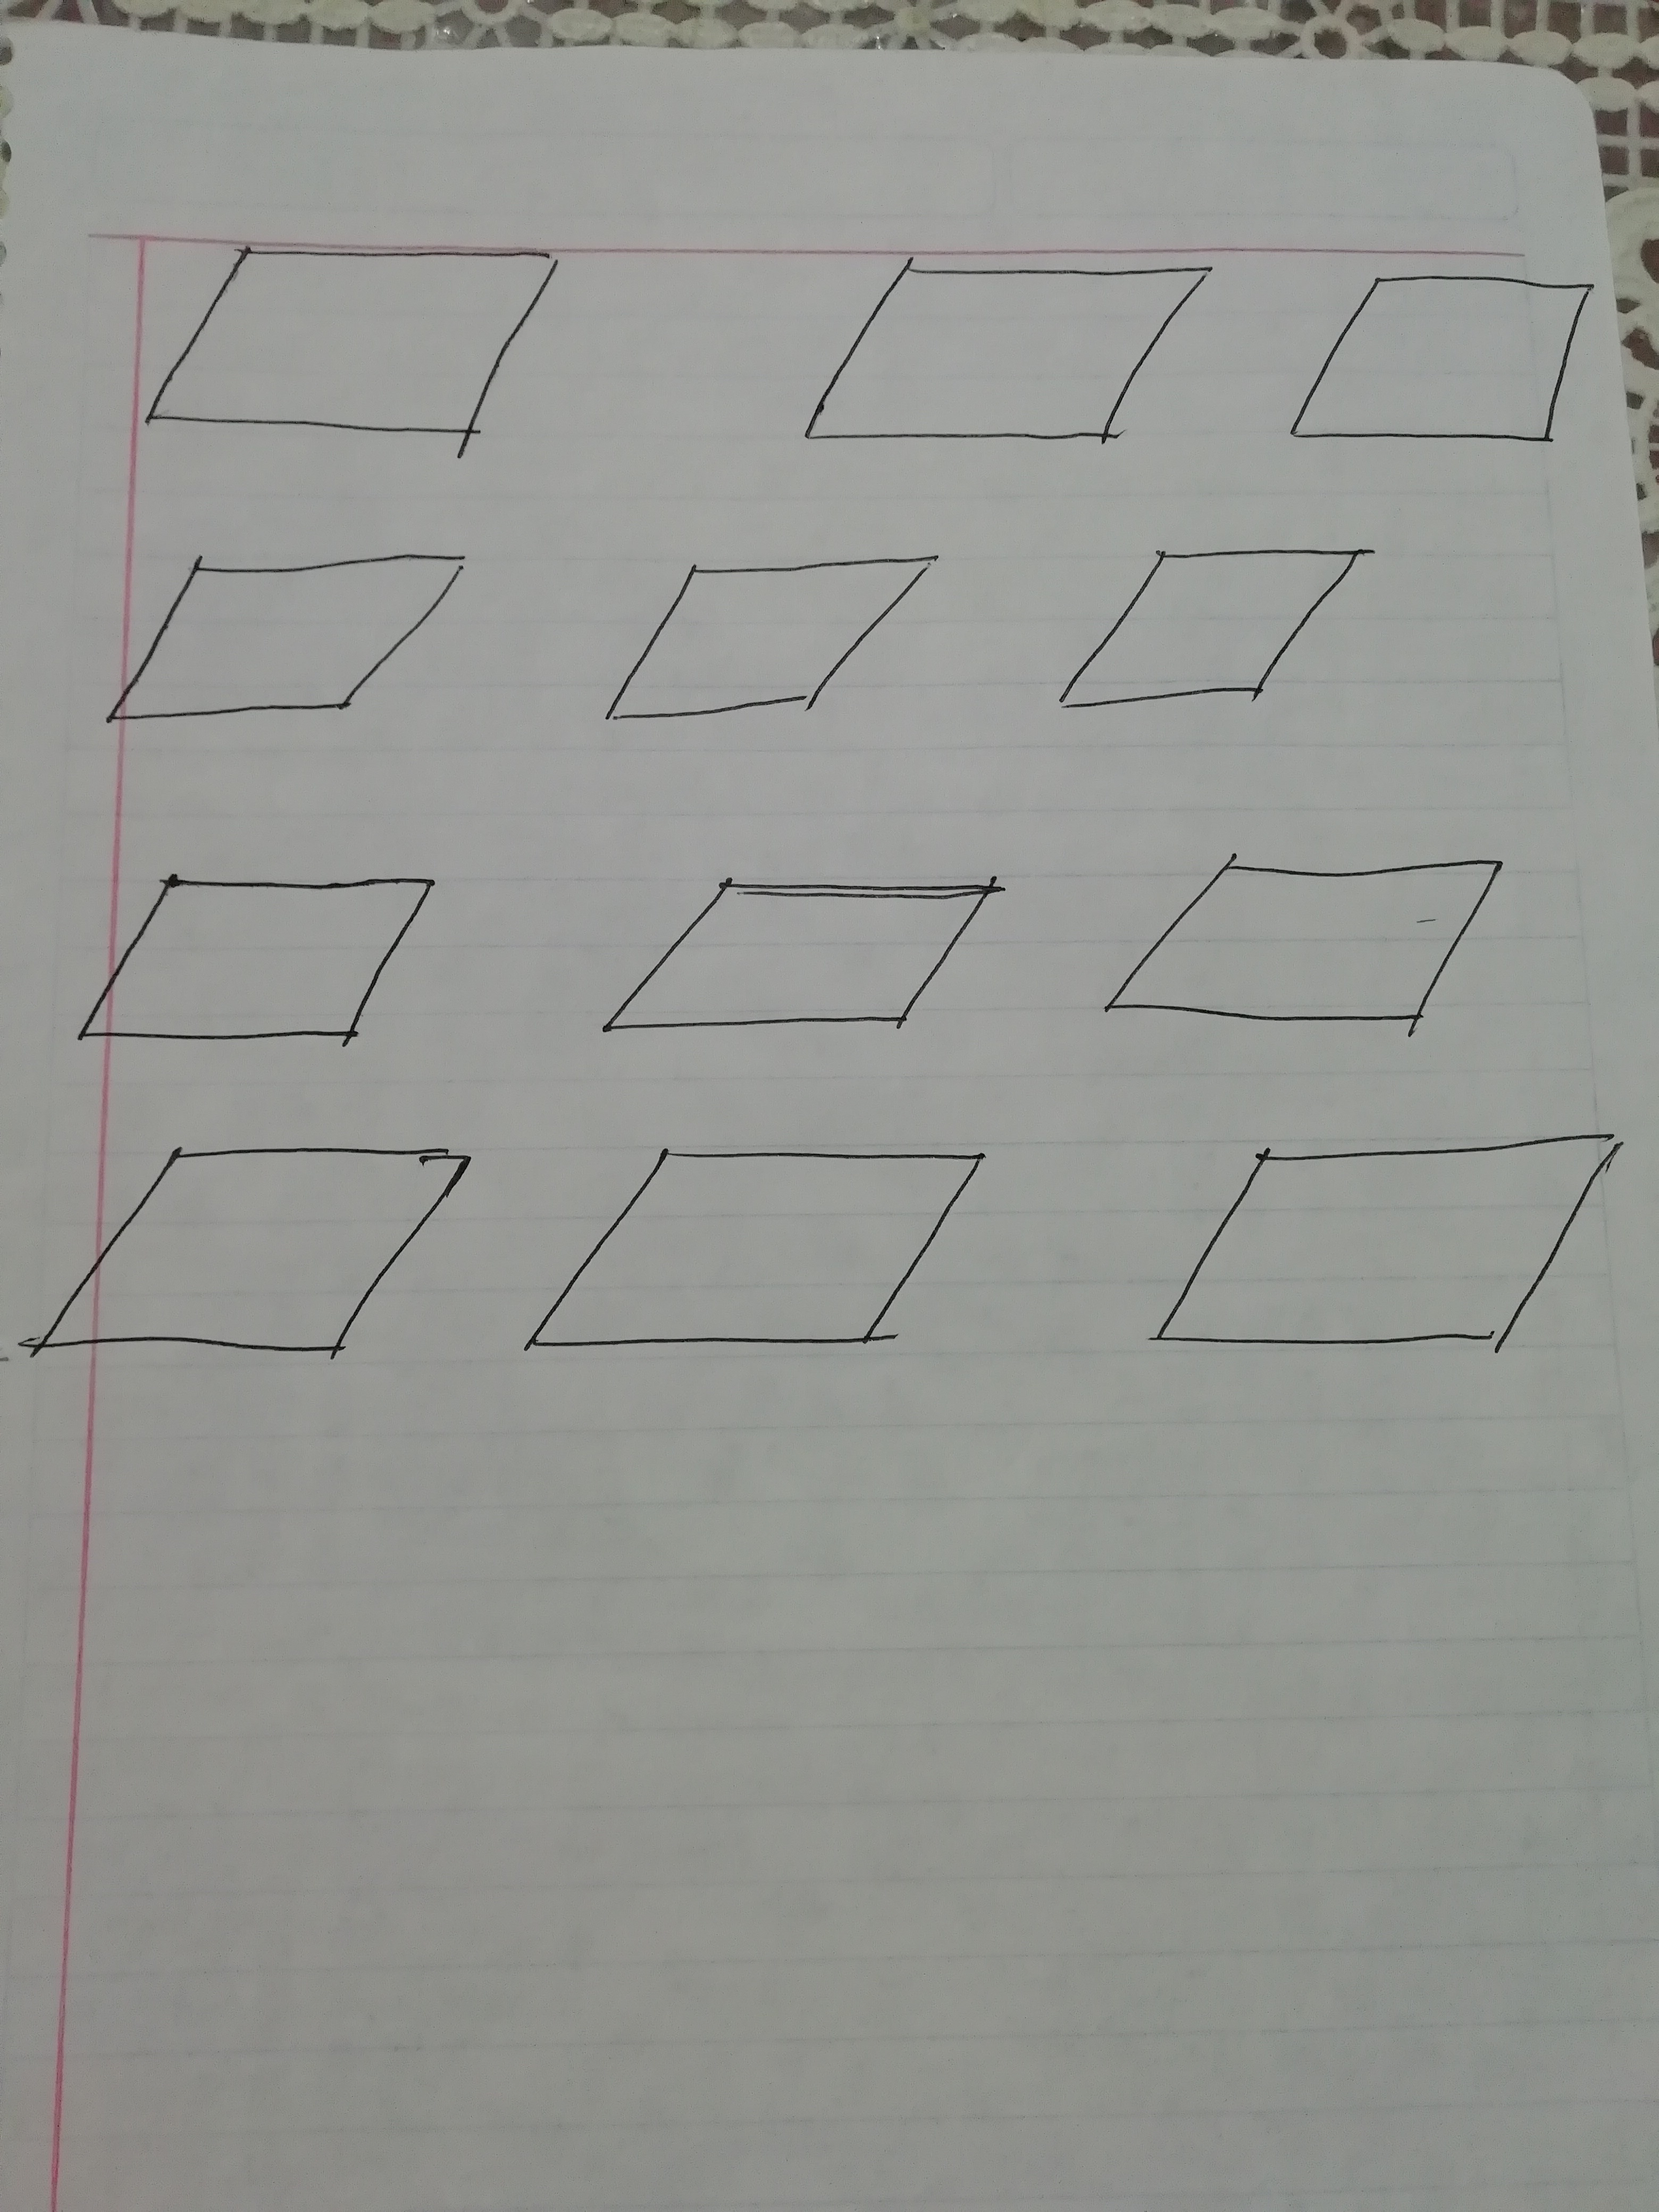scan: (98, 206, 605, 500), (1119, 1113, 1643, 1397), (509, 1130, 1012, 1390), (0, 1113, 484, 1379), (763, 209, 1232, 482), (568, 843, 1033, 1075), (1079, 833, 1544, 1059), (33, 843, 455, 1078), (70, 538, 498, 768), (1033, 517, 1401, 766), (1267, 240, 1612, 503), (575, 535, 969, 756)
